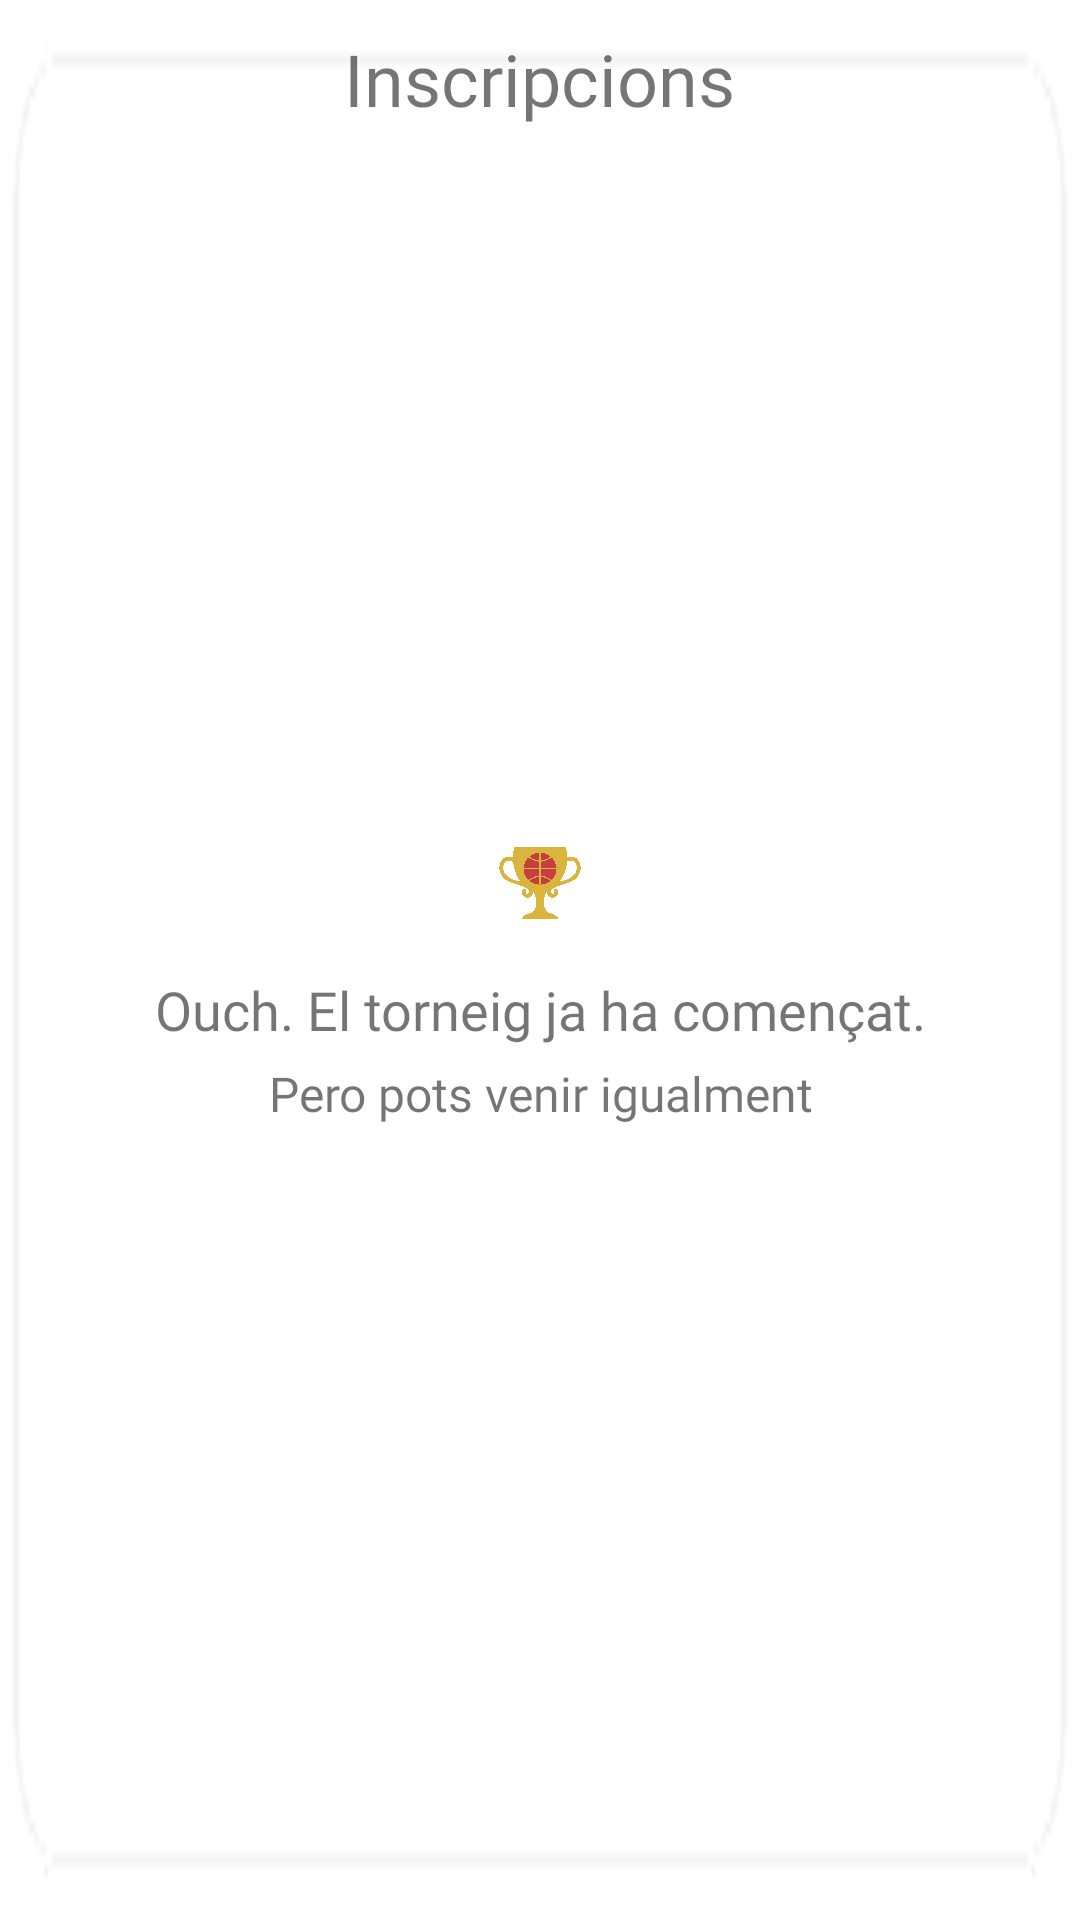

Icons on this 1080px x 1920px Android screen, each with its box as detection(x1, y1, x2, y2):
trofeu: detection(499, 847, 581, 919)
